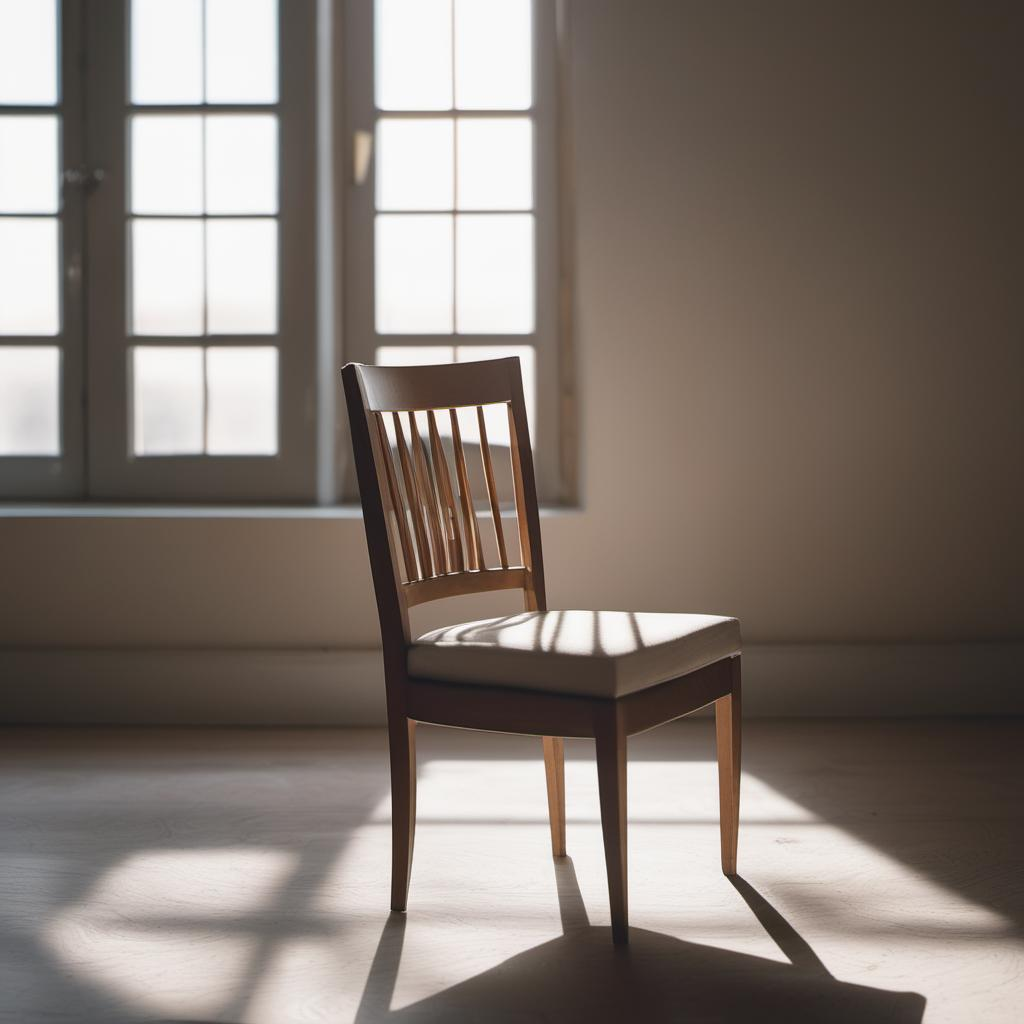chair_new: (335, 356, 745, 945)
